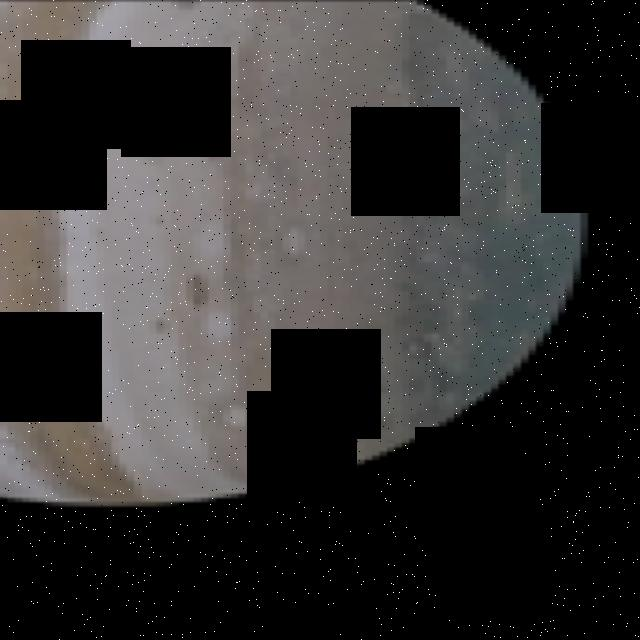Jupiter: (0, 0, 580, 506)
